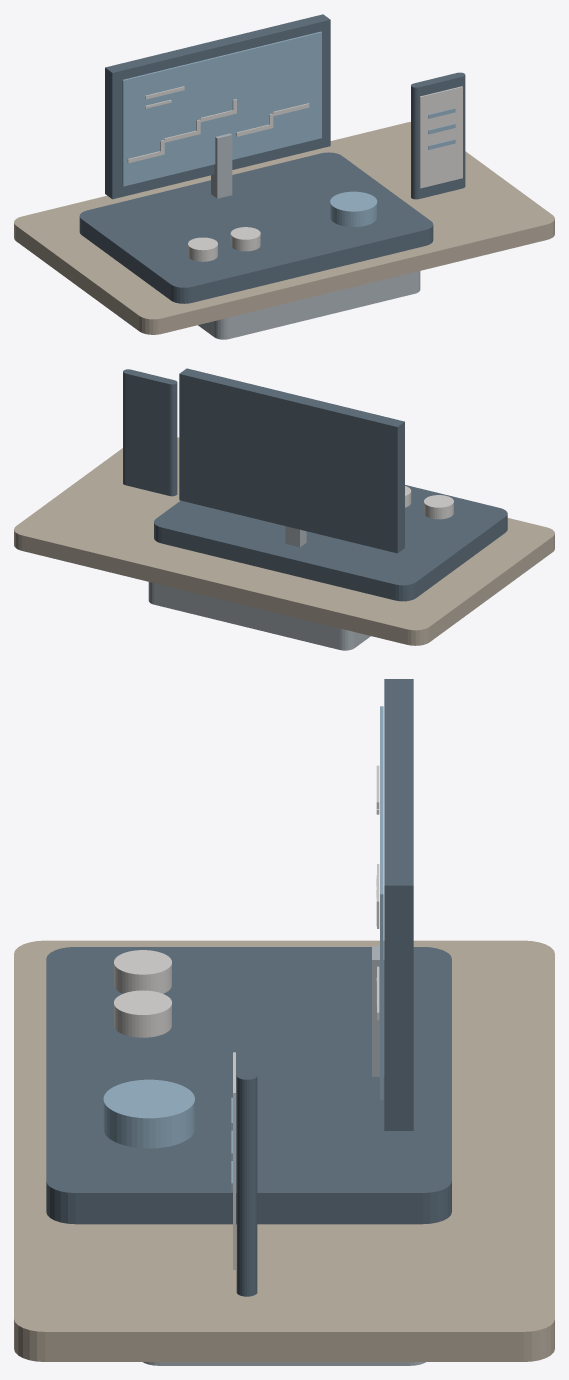
File: demo.glb
3 views of the same model, one above another, from view 1: azimuth 30°, elevation 25°; view 2: azimuth 150°, elevation 25°; view 3: azimuth 270°, elevation 25° (orthographic). The views are drawn at different scales.
Parts seen in each view (by area): view 1: demo; view 2: demo; view 3: demo.
Boxes of the visible parts, <box> form: demo: <box>14,14,554,339</box>; demo: <box>14,368,554,650</box>; demo: <box>14,679,554,1365</box>.
Bounding box in the file's own units: 4.45 × 2.4 × 2.6.
